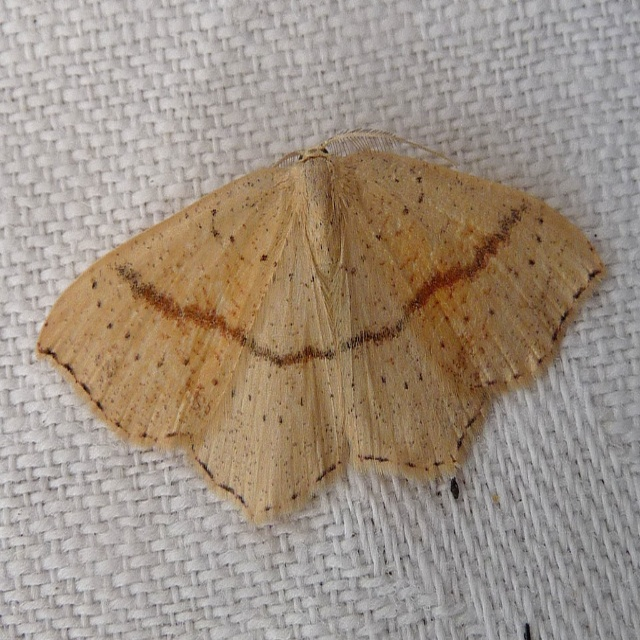Moths and butterflies: (33, 125, 612, 524)
